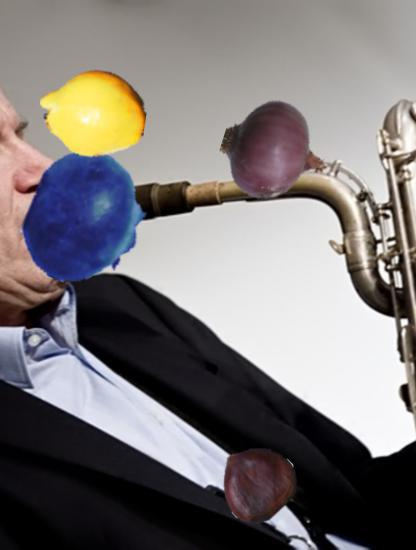Chestnut: (217, 443, 295, 521)
Huckleberry: (18, 151, 153, 286)
Onion: (222, 99, 327, 204)
Quince: (39, 60, 146, 167)
